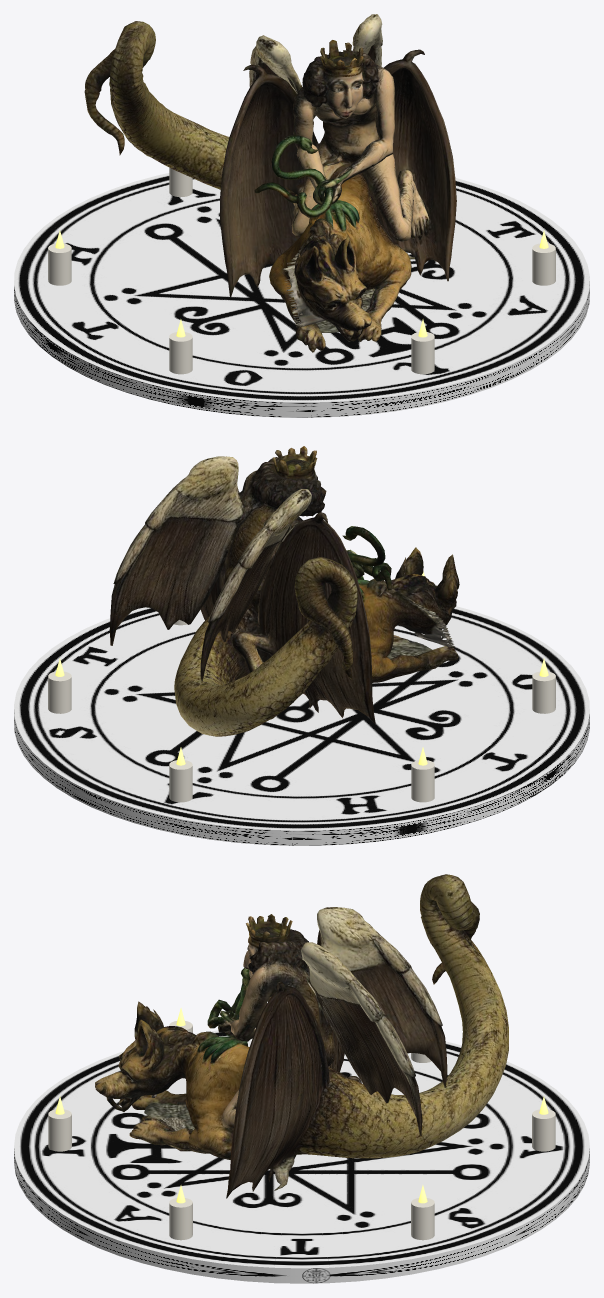
File: astaroth.glb
The picture shows the model from 3 angles, top to bottom: view 1: azimuth 30°, elevation 25°; view 2: azimuth 150°, elevation 25°; view 3: azimuth 270°, elevation 25°; orthographic projection.
Parts seen in each view (by area): view 1: object 2, tripo_node_3ddbb5f9-d7f4-4ee4-95a1-d25b91b42041, object 3; view 2: object 2, tripo_node_3ddbb5f9-d7f4-4ee4-95a1-d25b91b42041, object 3; view 3: tripo_node_3ddbb5f9-d7f4-4ee4-95a1-d25b91b42041, object 2, object 3, object 4.
Part boxes in pixels (box(x1,y1,x2,y2)): object 2: box(14, 173, 589, 417); tripo_node_3ddbb5f9-d7f4-4ee4-95a1-d25b91b42041: box(84, 14, 456, 352); object 3: box(48, 167, 555, 374); object 2: box(14, 606, 589, 845); tripo_node_3ddbb5f9-d7f4-4ee4-95a1-d25b91b42041: box(109, 446, 459, 736); object 3: box(48, 615, 555, 802); tripo_node_3ddbb5f9-d7f4-4ee4-95a1-d25b91b42041: box(95, 874, 508, 1198); object 2: box(14, 1028, 589, 1283); object 3: box(48, 1021, 555, 1240); object 4: box(55, 1008, 548, 1203).
Bounding box in the file's own units: 1.36 × 0.662 × 1.36.
4 materials, 2 textured.
